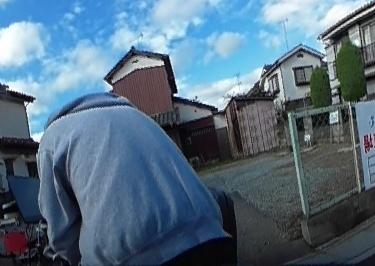person: (39, 89, 238, 266)
